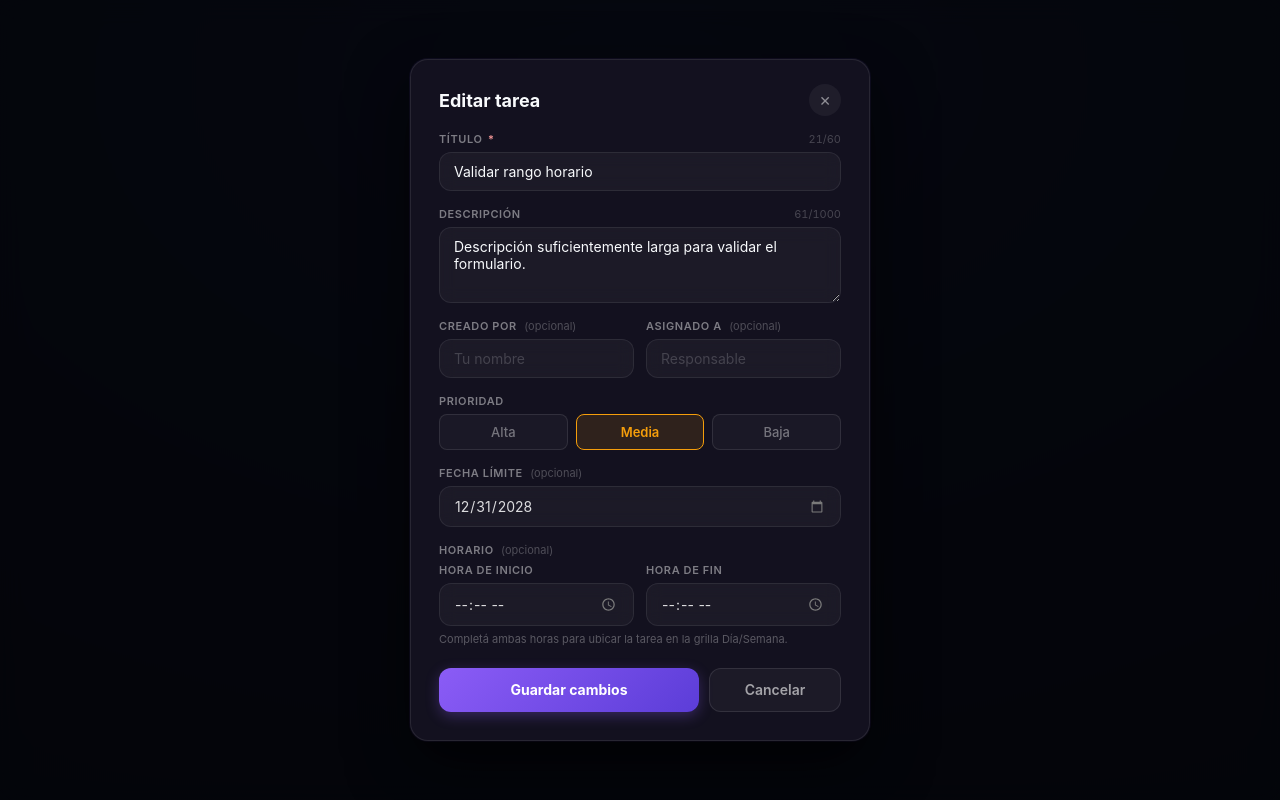
it: TaskForm › rechaza una hora de fin anterior o igual al inicio
The image size is (1280, 800).
Type "15:00" into the time field labelled "Hora de inicio" at (536, 605), box [439,584,634,626]
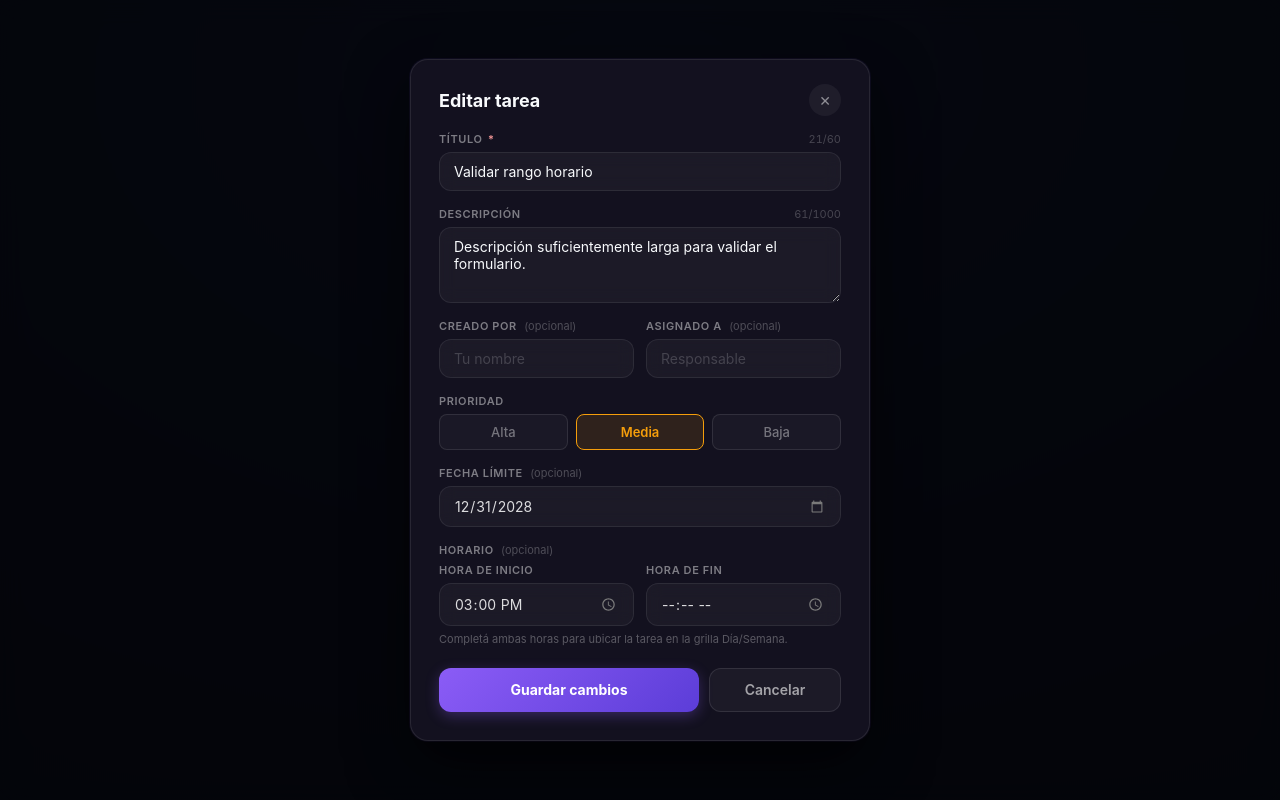
Type "14:00" into the time field labelled "Hora de fin" at (744, 605), box [646,584,841,626]
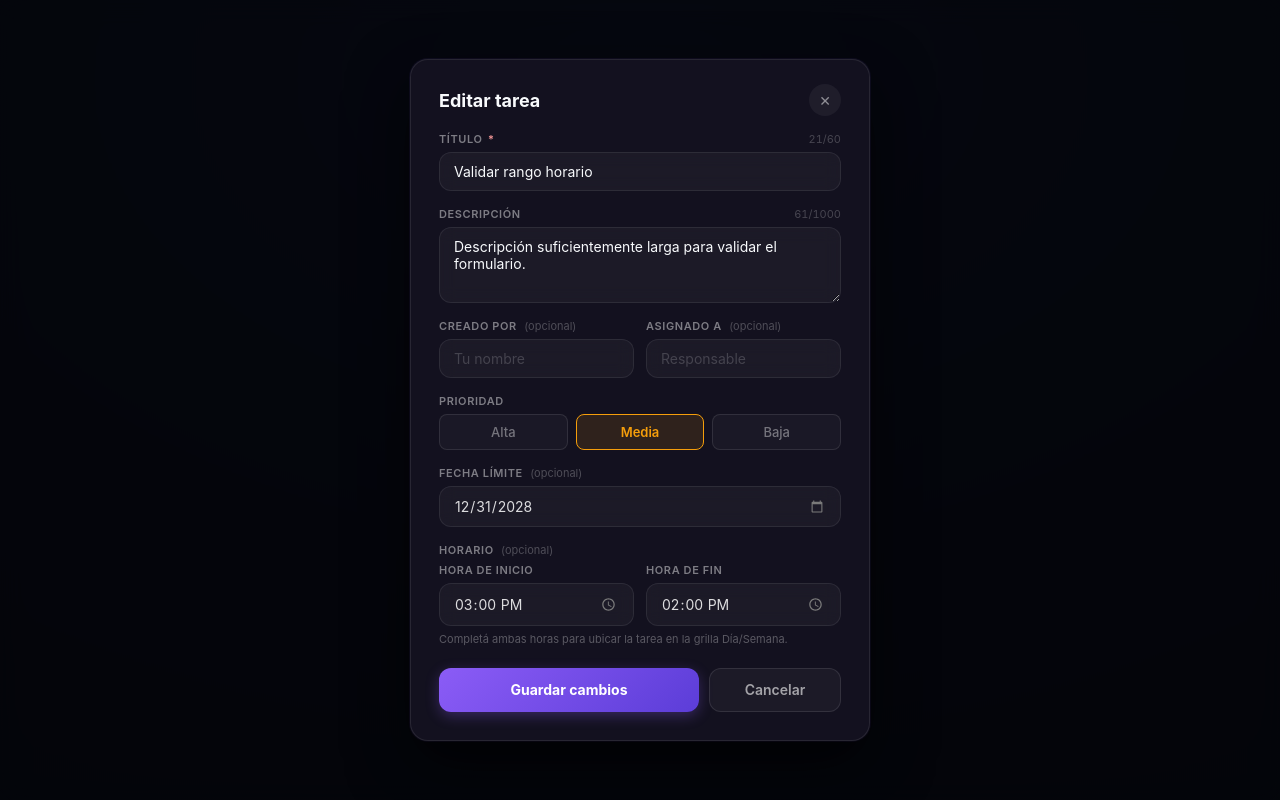
Click the button "Guardar cambios" at (569, 690), box [439,668,699,712]
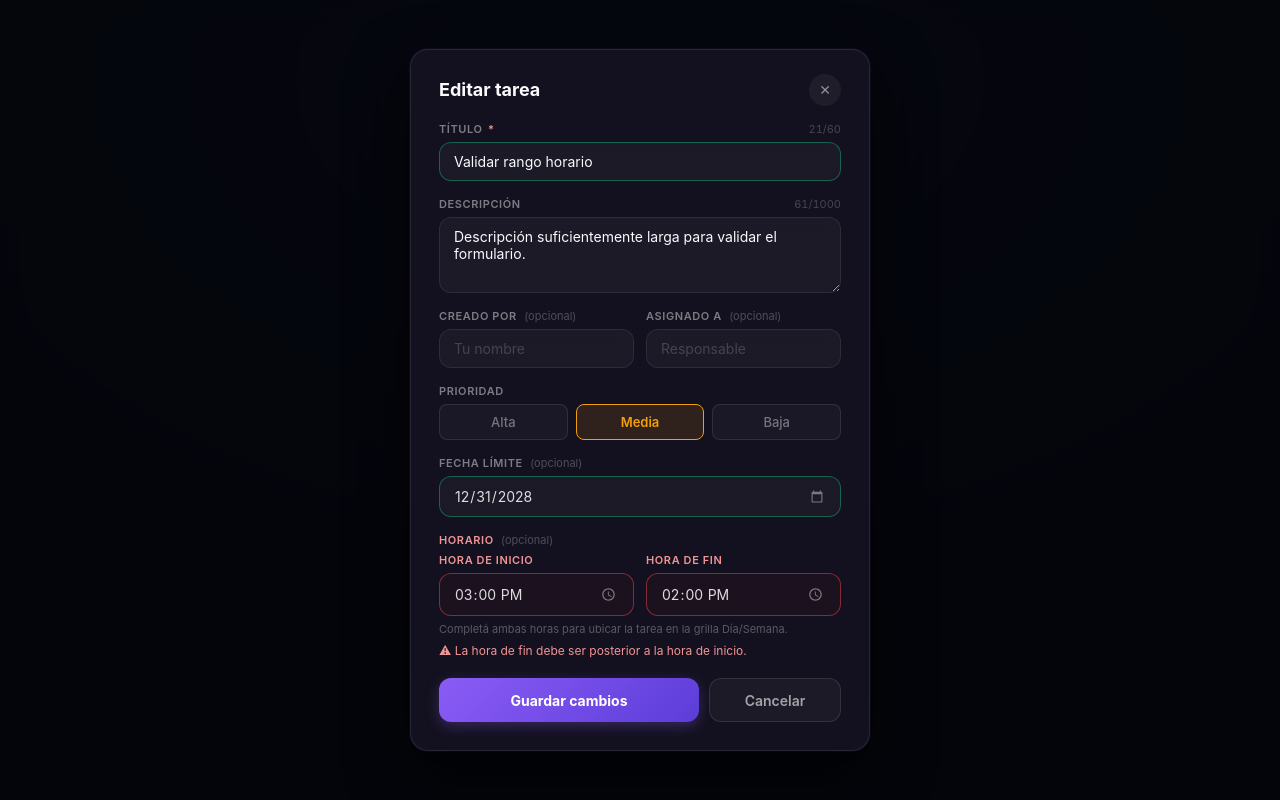
Expected: the text "⚠ La hora de fin debe ser posterior a la hora de inicio." is shown, [439,643,747,658]
